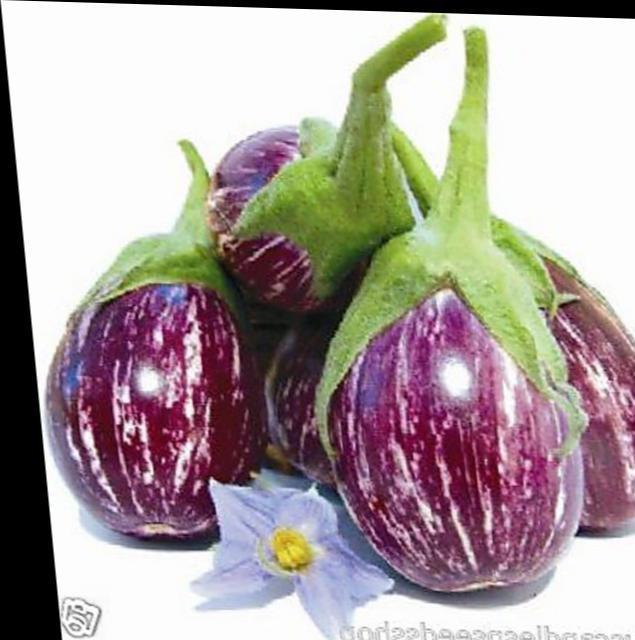eggplant: (295, 41, 634, 591), (14, 175, 334, 543), (146, 18, 472, 336)
